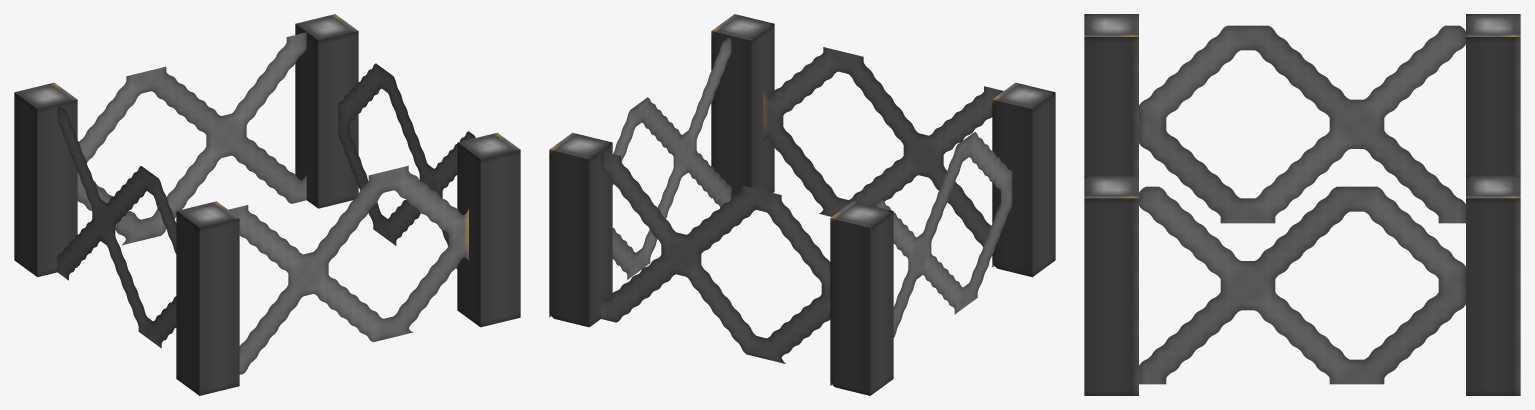
File: launch_table_large_scaffold_empty.obj
The picture shows the model from 3 angles, left to right: view 1: azimuth 30°, elevation 25°; view 2: azimuth 150°, elevation 25°; view 3: azimuth 270°, elevation 25°; orthographic projection. The views are drawn at different scales.
Visible parts, largest first — view 1: Cube.005_Cube.006; view 2: Cube.005_Cube.006; view 3: Cube.005_Cube.006.
Boxes of the visible parts, x1=… form: Cube.005_Cube.006: x1=14, y1=14, x2=520, y2=395; Cube.005_Cube.006: x1=549, y1=14, x2=1055, y2=395; Cube.005_Cube.006: x1=1084, y1=14, x2=1520, y2=395.
Bounding box in the file's own units: 2 × 1 × 2.
